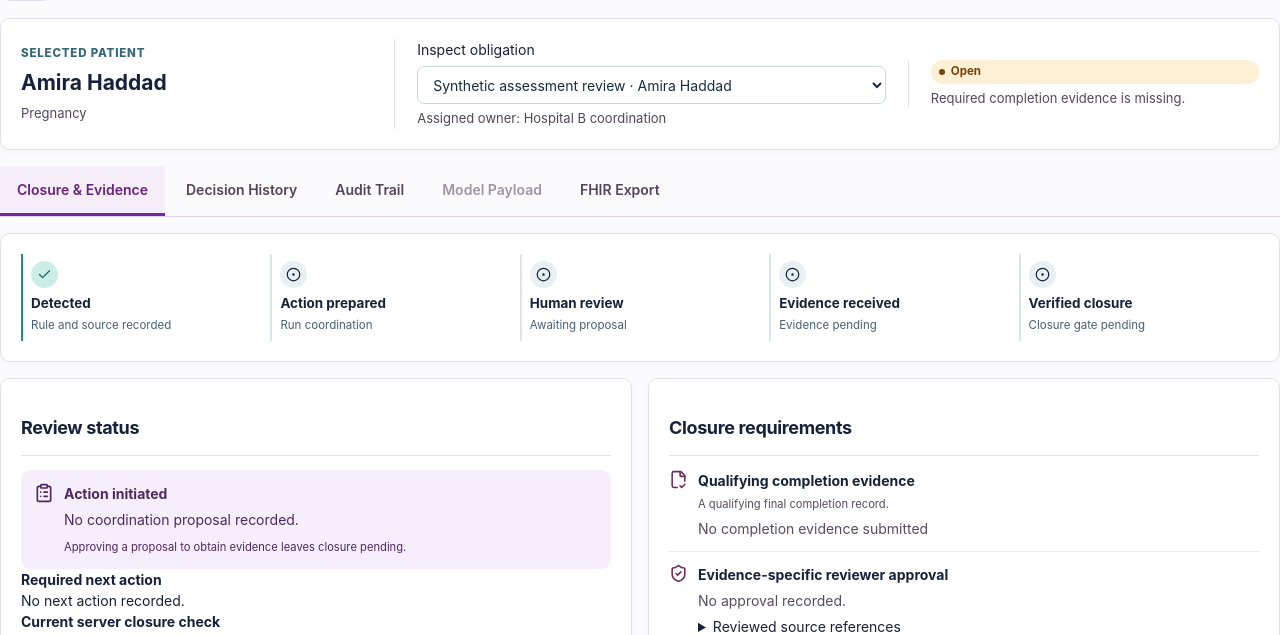
Test case: audit pagination keeps every event reachable and preserves the displayed page across tabs
The image size is (1280, 635).
Click the tab "Audit Trail": x=370, y=191 [318,166,421,216]
(page scrolled)
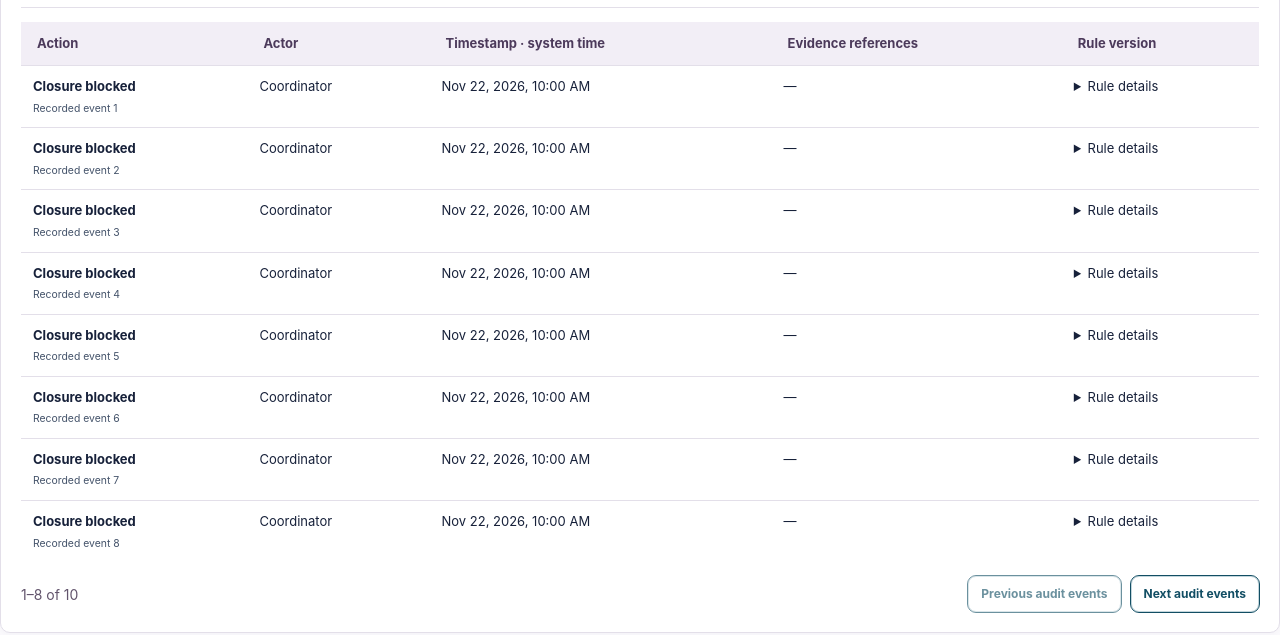
Expected: the text "Recorded event 1" is shown, [33,102,118,115]
Expected: the text "Recorded event 10" is not shown
Click the button "Next audit events": x=1195, y=594 [1130,576,1259,612]
(page scrolled)
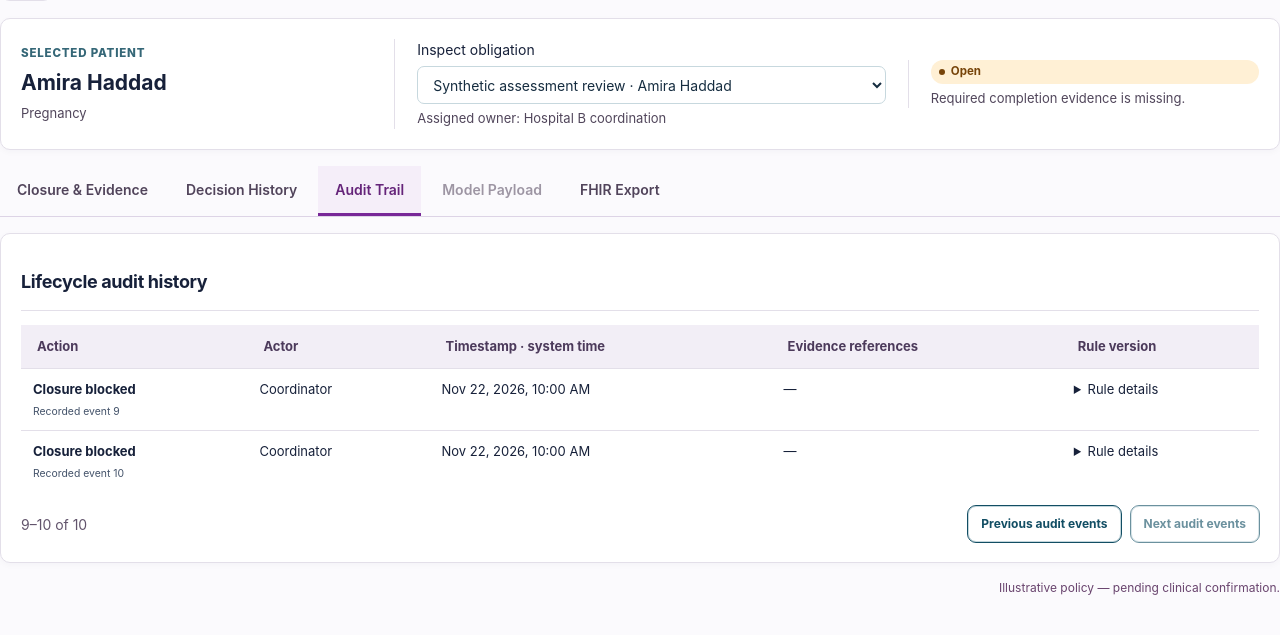
Expected: the text "Recorded event 10" is shown, [33,467,124,480]
Click the tab "Decision History": x=242, y=191 [169,166,314,216]
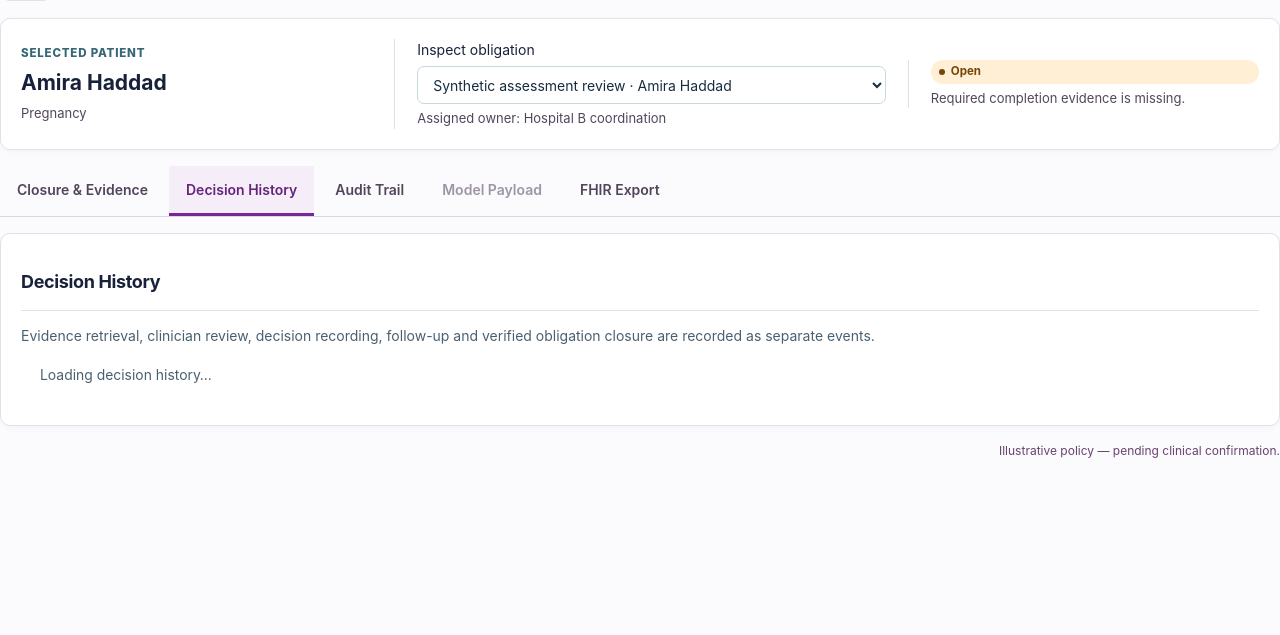
Click the tab "Audit Trail": x=370, y=191 [318,166,421,216]
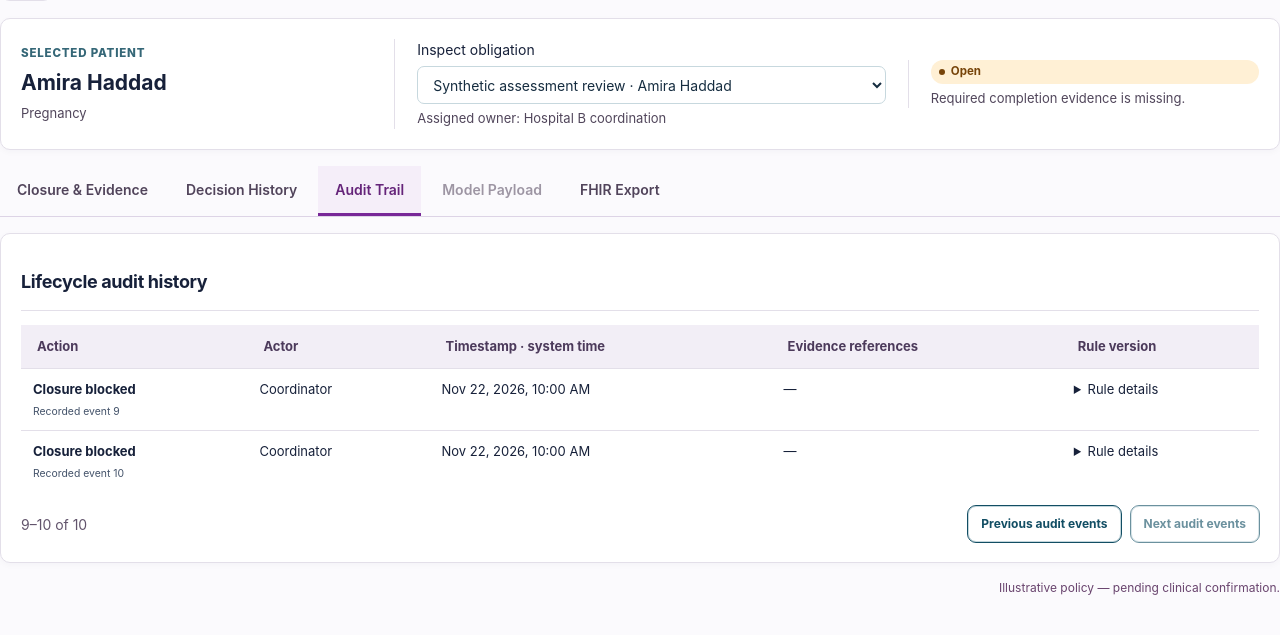
Expected: the text "Recorded event 10" is shown, [33,467,124,480]
